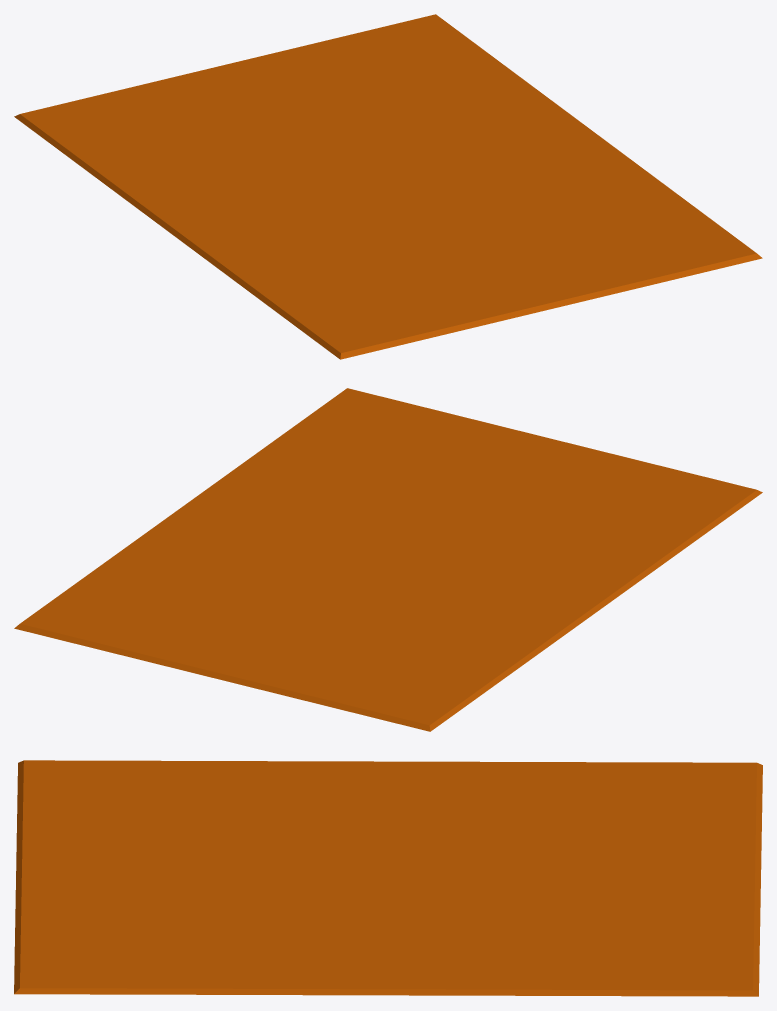
The model's file is Rug.fbx.
3 views of the same model, one above another, from view 1: azimuth 30°, elevation 25°; view 2: azimuth 150°, elevation 25°; view 3: azimuth 270°, elevation 25° (orthographic). The views are drawn at different scales.
Visible parts, largest first — view 1: pPlane1; view 2: pPlane1; view 3: pPlane1.
Boxes of the visible parts, <box> form: pPlane1: <box>14,14,762,359</box>; pPlane1: <box>14,388,762,731</box>; pPlane1: <box>14,760,762,996</box>.
Bounding box in the file's own units: 6.38 × 0.0547 × 8.64.
